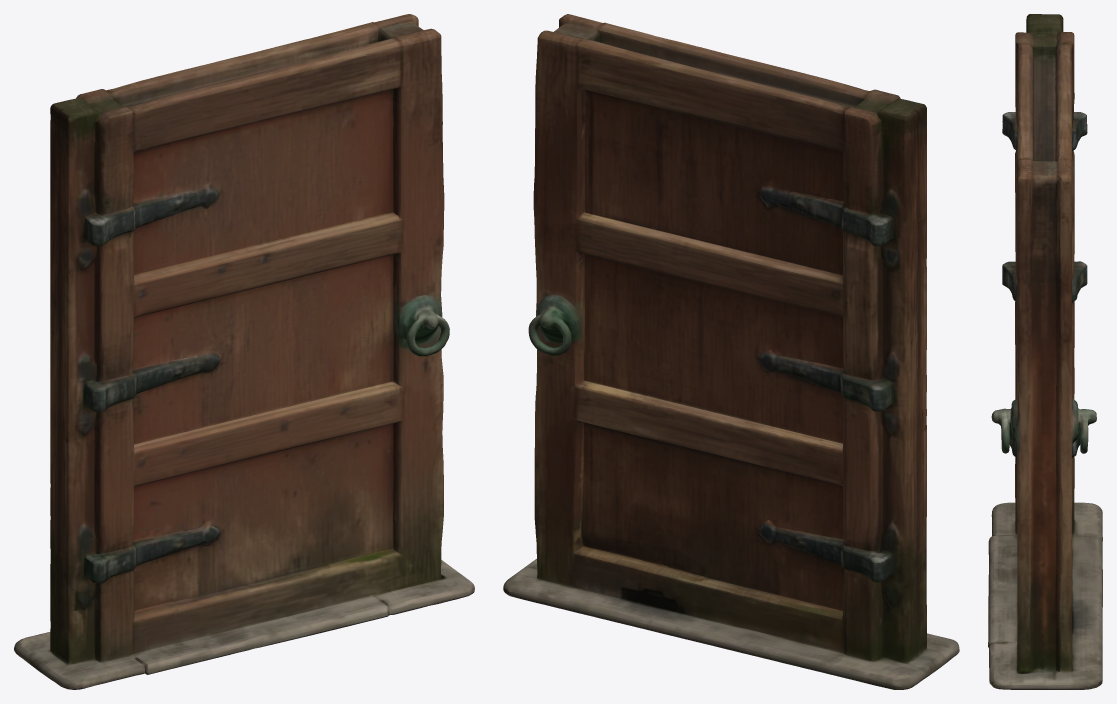
Rendered from ARCH-014.glb.
3 views of the same model, side by side, from view 1: azimuth 30°, elevation 25°; view 2: azimuth 150°, elevation 25°; view 3: azimuth 270°, elevation 25° (orthographic). The views are drawn at different scales.
Visible parts, largest first — view 1: world; view 2: world; view 3: world.
Boxes of the visible parts, x1=… form: world: x1=14, y1=14, x2=474, y2=689; world: x1=503, y1=14, x2=959, y2=689; world: x1=988, y1=14, x2=1102, y2=689.
Bounding box in the file's own units: 2 × 2.58 × 0.5322.
Materials: 1 (1 with a texture image).
